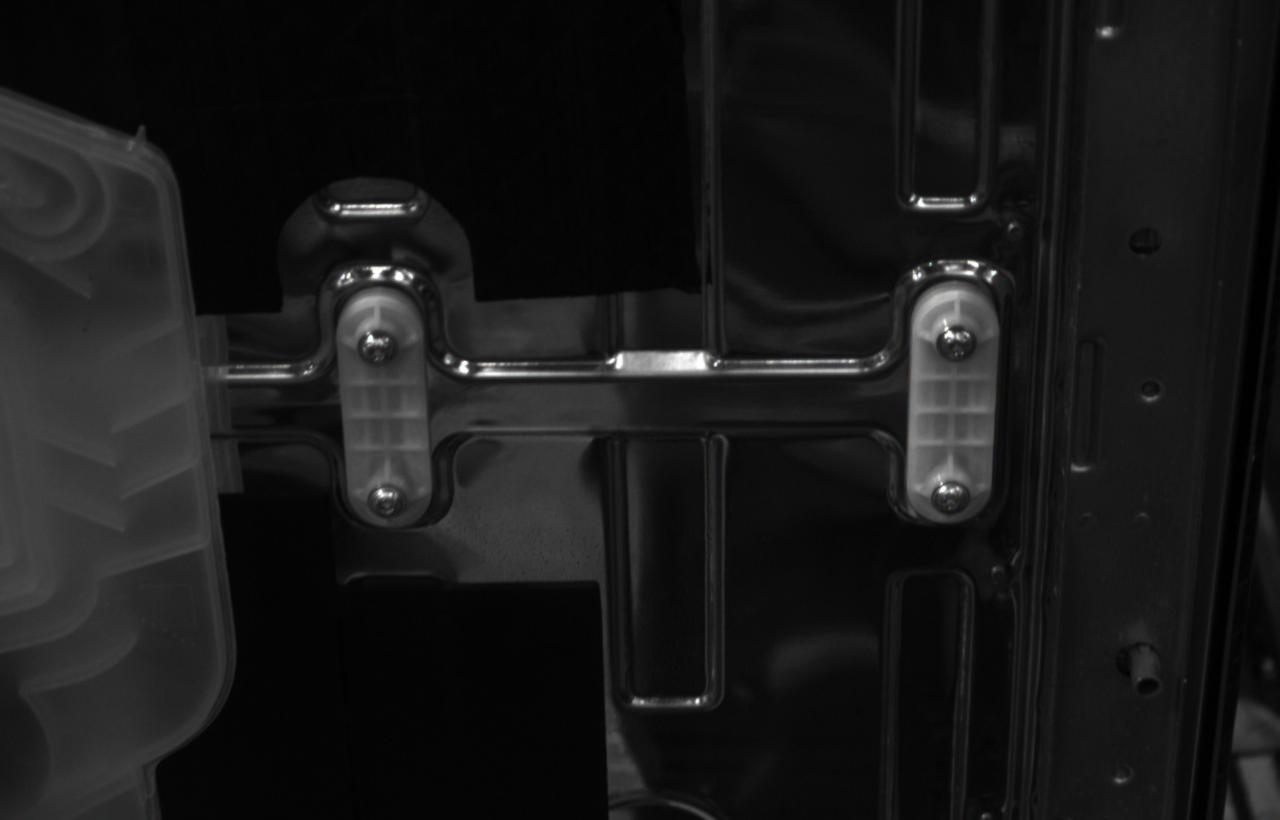vida-ok: (356, 326, 400, 369), (936, 323, 978, 364), (366, 483, 408, 520), (930, 480, 973, 516)
